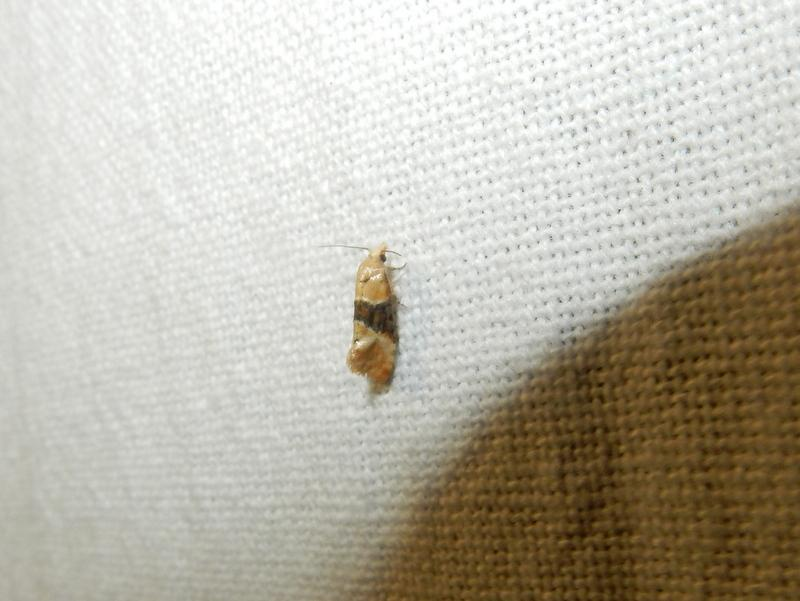Eupoecilia Ambiguella: (317, 238, 409, 399)
